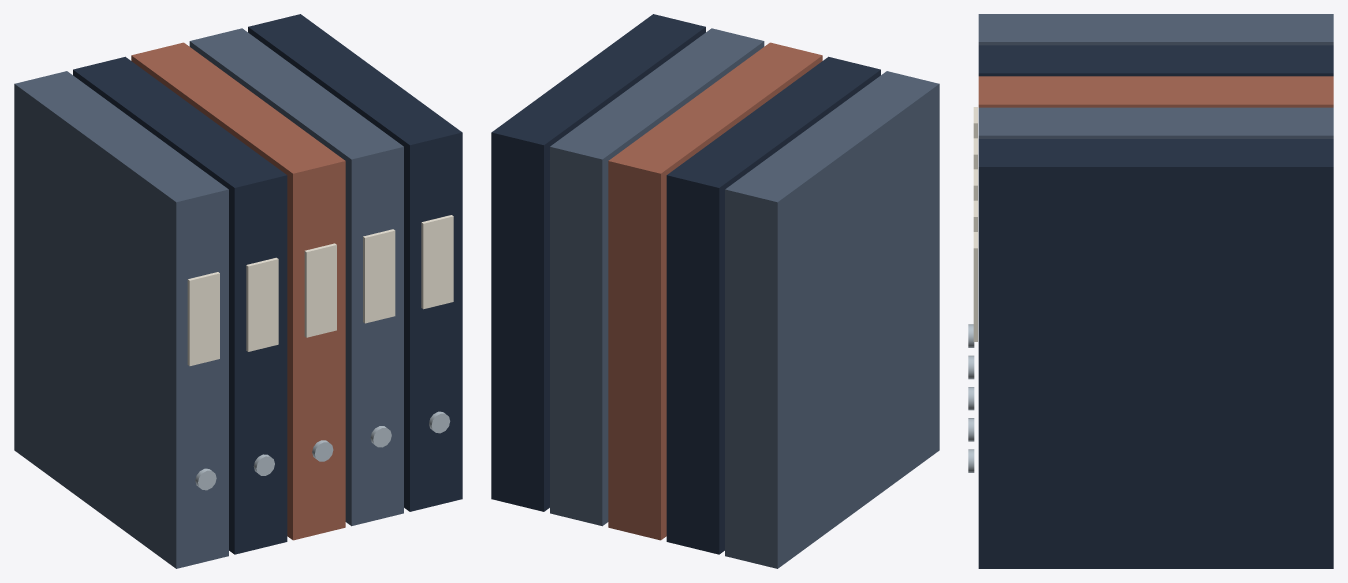
Rendered from officeBinders.glb.
The picture shows the model from 3 angles, left to right: view 1: azimuth 30°, elevation 25°; view 2: azimuth 150°, elevation 25°; view 3: azimuth 270°, elevation 25°; orthographic projection. The views are drawn at different scales.
Size of the model in its own units: 0.245 by 0.3 by 0.247.
